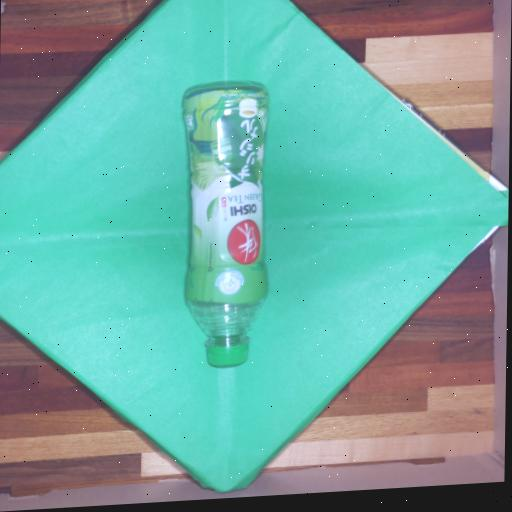bottle: (178, 81, 271, 375)
